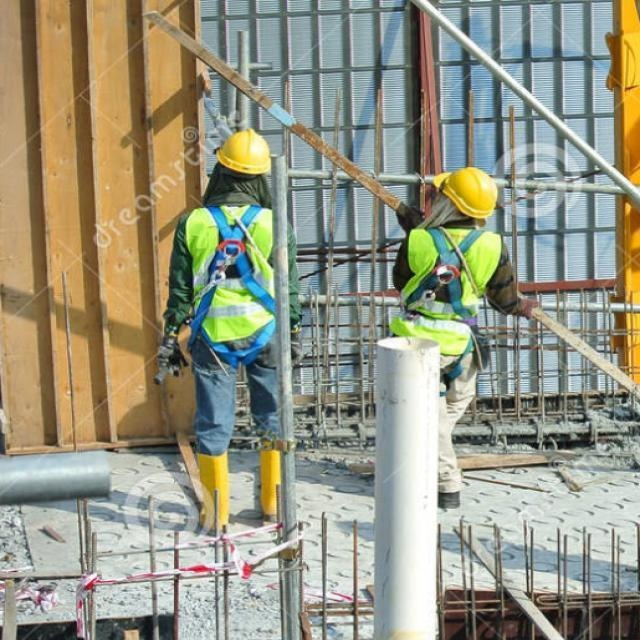Arnes_seguridad: (186, 197, 276, 360), (398, 223, 491, 322)
